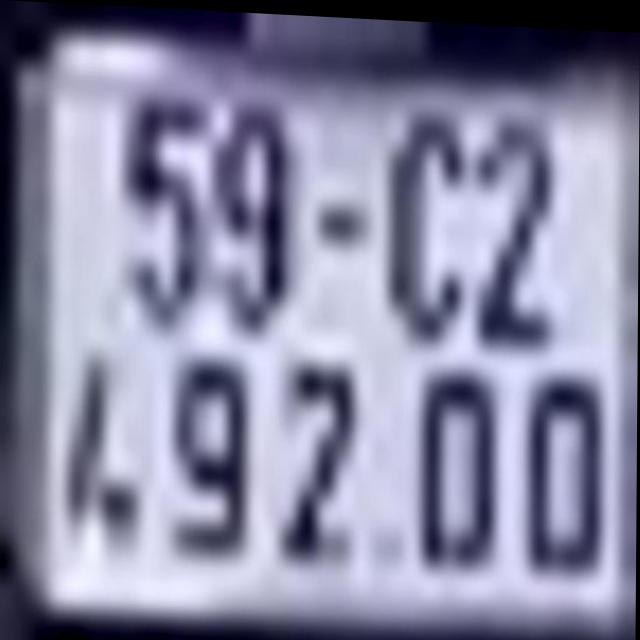0: (525, 360, 608, 577), (419, 366, 499, 570)
2: (474, 98, 559, 338), (282, 366, 361, 566)
4: (66, 365, 142, 565)
5: (123, 91, 203, 321)
9: (214, 94, 290, 329), (169, 348, 249, 552)
C: (378, 86, 463, 334)
